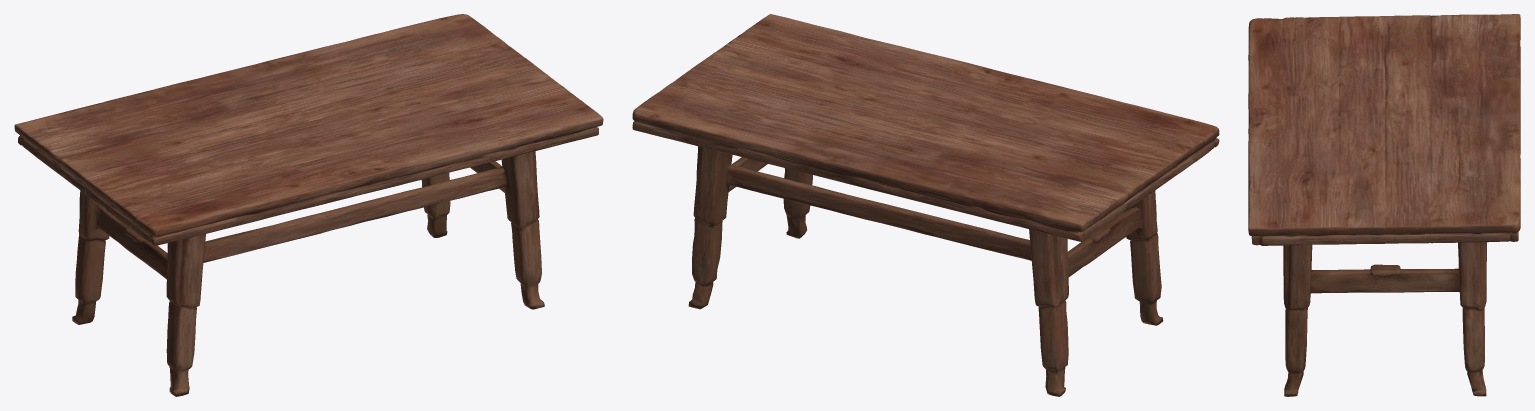
Rendered from dining-table.glb.
3 views of the same model, side by side, from view 1: azimuth 30°, elevation 25°; view 2: azimuth 150°, elevation 25°; view 3: azimuth 270°, elevation 25° (orthographic). The views are drawn at different scales.
Visible parts, largest first — view 1: tripo_node_01a2180a-ff06-708a-a665-cee963049c99; view 2: tripo_node_01a2180a-ff06-708a-a665-cee963049c99; view 3: tripo_node_01a2180a-ff06-708a-a665-cee963049c99.
Boxes of the visible parts, left/top/right/bottom form: tripo_node_01a2180a-ff06-708a-a665-cee963049c99: left=14, top=14, right=603, bottom=396; tripo_node_01a2180a-ff06-708a-a665-cee963049c99: left=632, top=14, right=1219, bottom=396; tripo_node_01a2180a-ff06-708a-a665-cee963049c99: left=1248, top=14, right=1520, bottom=396.
Size of the model in its own units: 1 by 0.4182 by 0.5374.
Materials: 1 (1 with a texture image).
